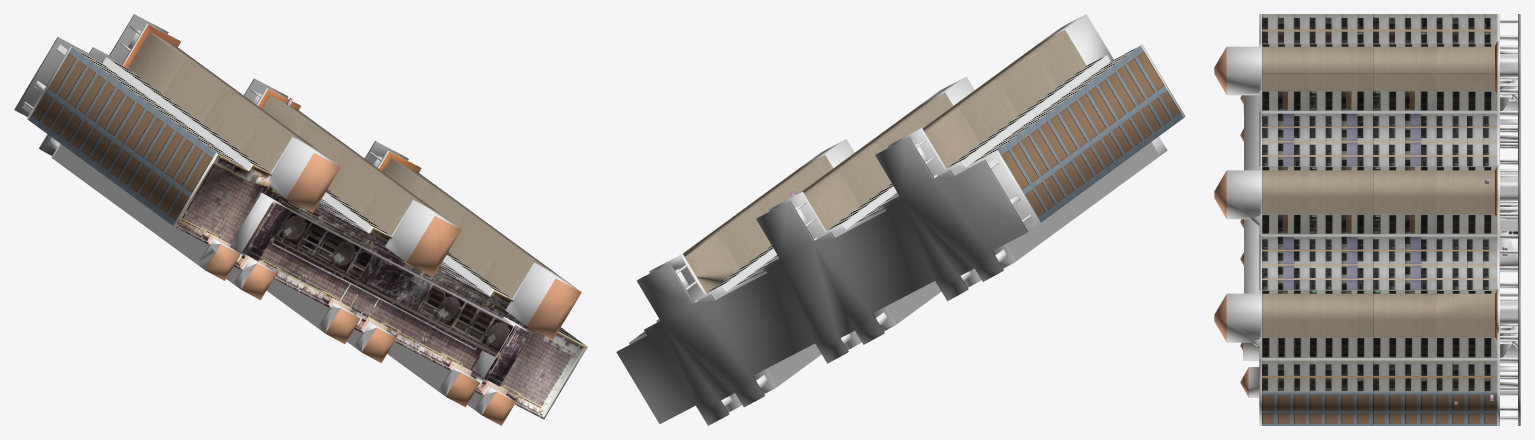
Rendered from amk_blk305_building.obj.
3 renders of one model, left to right at view 1: azimuth 30°, elevation 25°; view 2: azimuth 150°, elevation 25°; view 3: azimuth 270°, elevation 25°, orthographic. The views are drawn at different scales.
Parts seen in each view (by area): view 1: polygon.765; view 2: polygon.765; view 3: polygon.765.
Boxes of the visible parts, x1,y1,x2,y2 form: polygon.765: (14,14,587,425); polygon.765: (616,14,1185,425); polygon.765: (1214,14,1520,425).
Bounding box in the file's own units: 68.64 × 55.05 × 53.57.
1 material, 1 textured.
